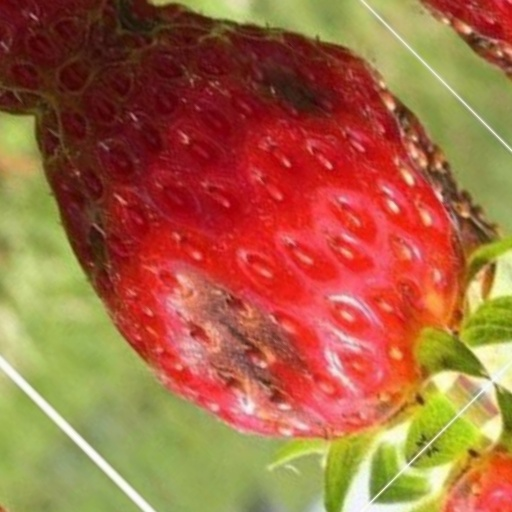Anthracnose Fruit Rot: (36, 48, 390, 407)
